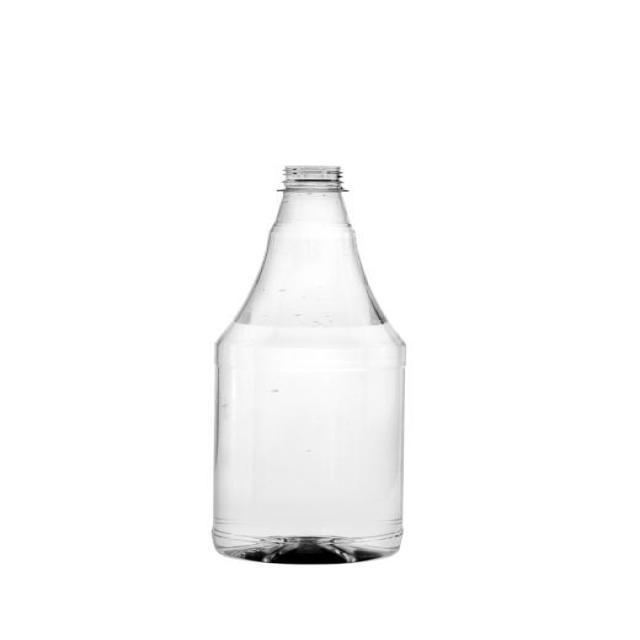bottle: (212, 168, 405, 562)
